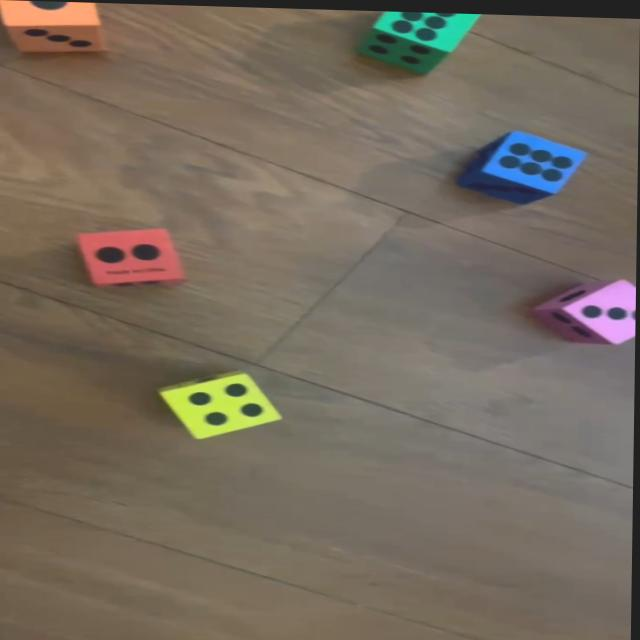cube: (355, 9, 486, 72), (76, 225, 187, 289)
